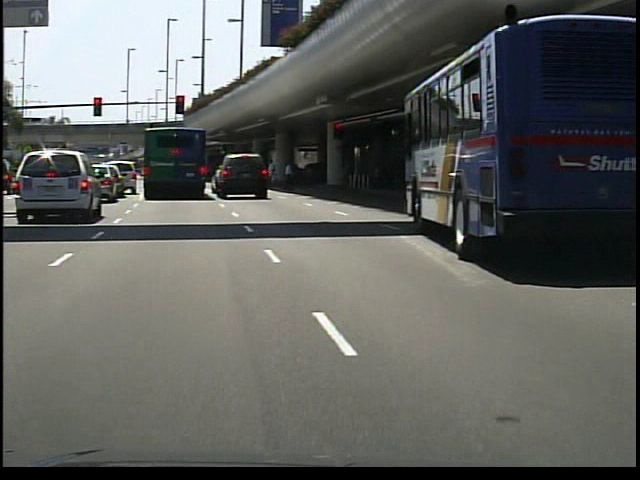person: (278, 157, 298, 194)
